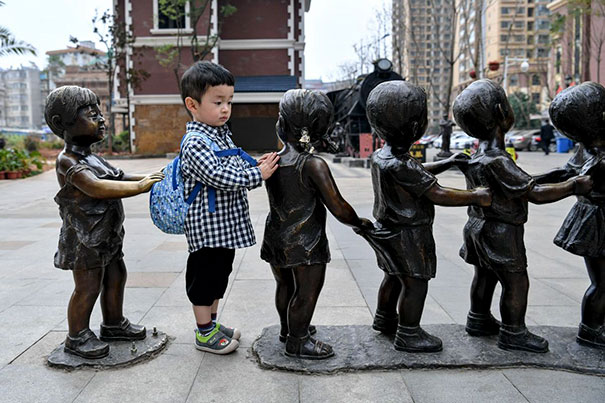person: (146, 57, 281, 358)
person-like: (449, 76, 597, 357), (363, 77, 495, 357), (41, 83, 168, 363), (255, 85, 375, 362), (546, 79, 605, 350)
